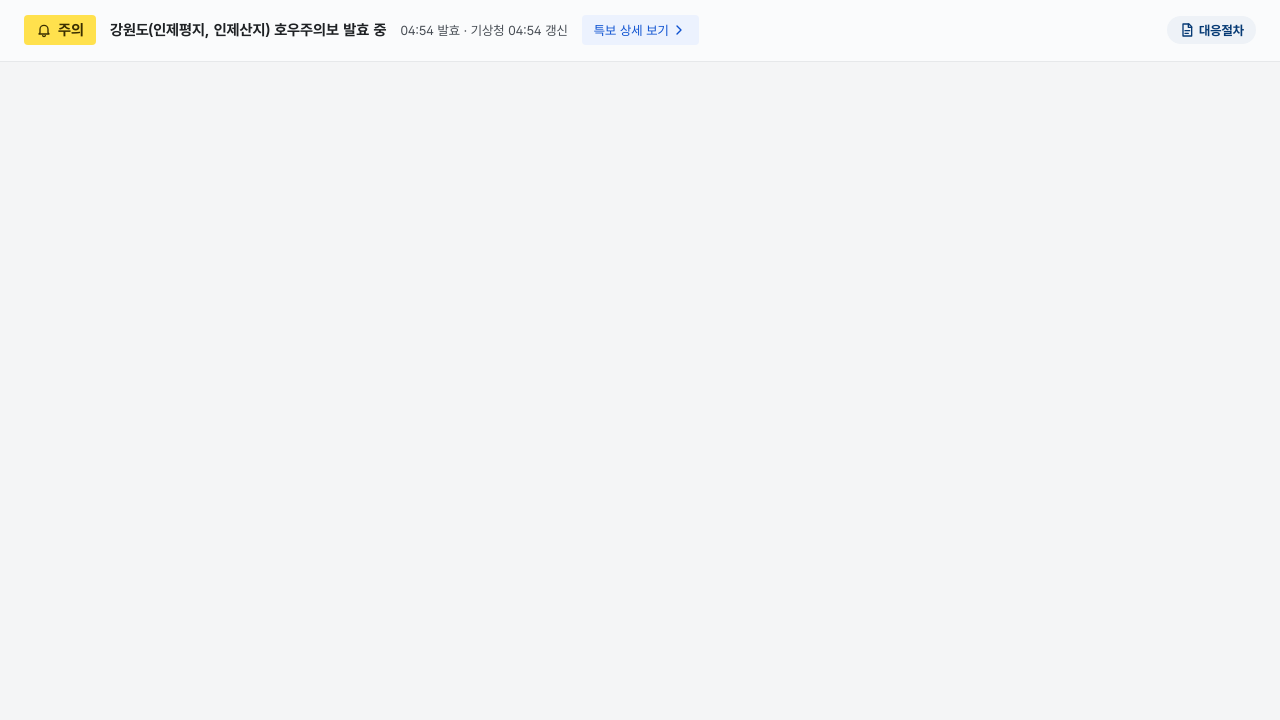
기상특보 상세 창 › 시연 시나리오를 켠 시연 계정 — 표지·「끊음」 없이 진짜 특보처럼(개발서버 가상 특보와 같이)
The width and height of the screenshot is (1280, 720).
Click the button with class "wxmore": (640, 30) [582,15,699,45]
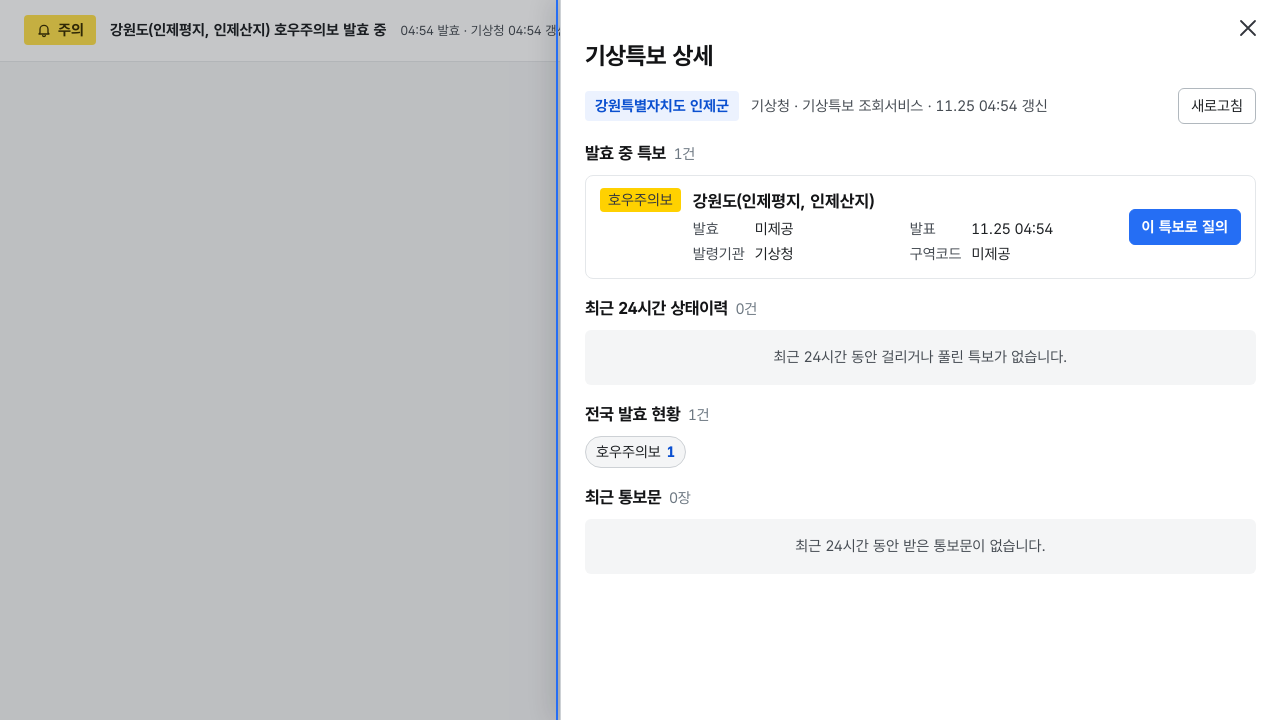
expect the text with class "wx-item-area" reads "강원도(인제평지, 인제산지)": met, box [693,191,874,211]
expect the text with class "wx-source" reads "기상청 · 기상특보 조회서비스 · 11.25 04:54 갱신": met, box [751,96,1048,114]
